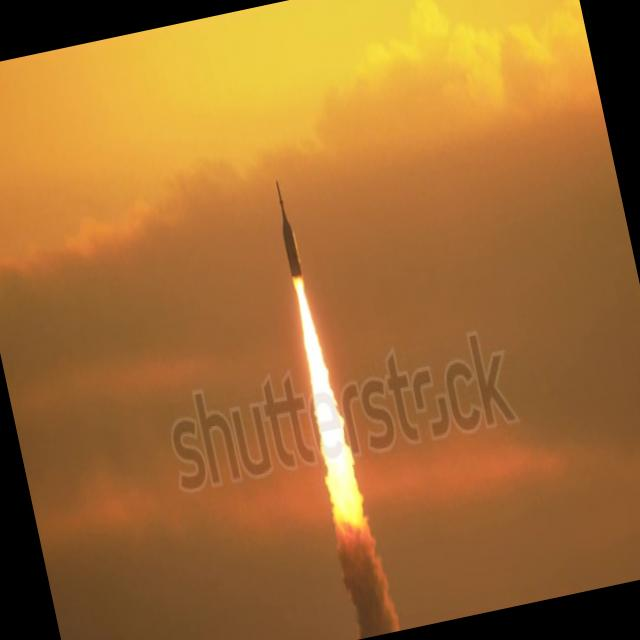rocket: (263, 163, 347, 436)
